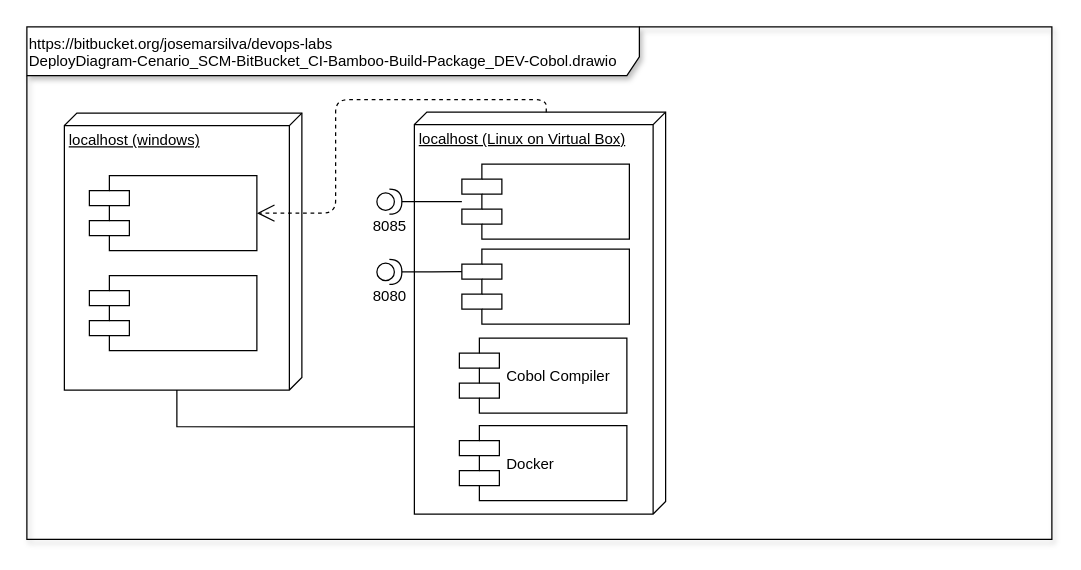
The diagram is 1081 pixels wide and 570 high, and some of its shapes have lost their labels. Each missing label, with the centre of its shape:
Bamboo: pixel 545 201
Chrome Browser: pixel 172 312
Jira Core: pixel 545 286
Virtual Box: pixel 172 212
